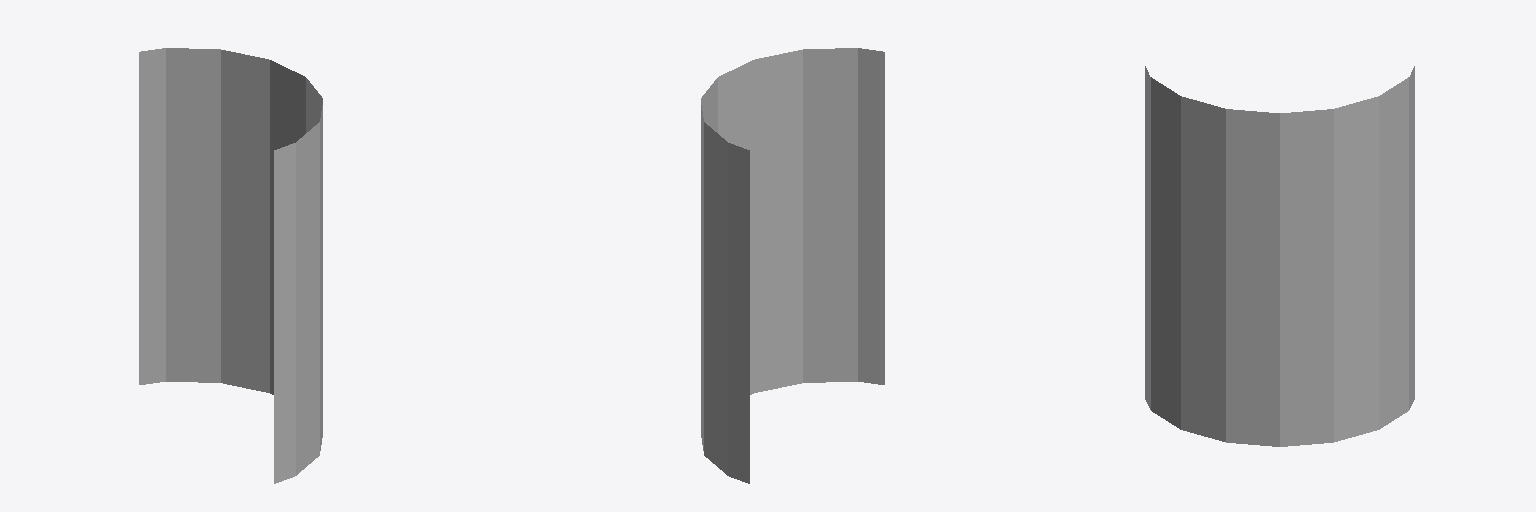
The model's file is table7-2.obj.
3 views of the same model, side by side, from view 1: azimuth 30°, elevation 25°; view 2: azimuth 150°, elevation 25°; view 3: azimuth 270°, elevation 25° (orthographic).
Bounding box in the file's own units: 1.15 × 3.67 × 2.7.